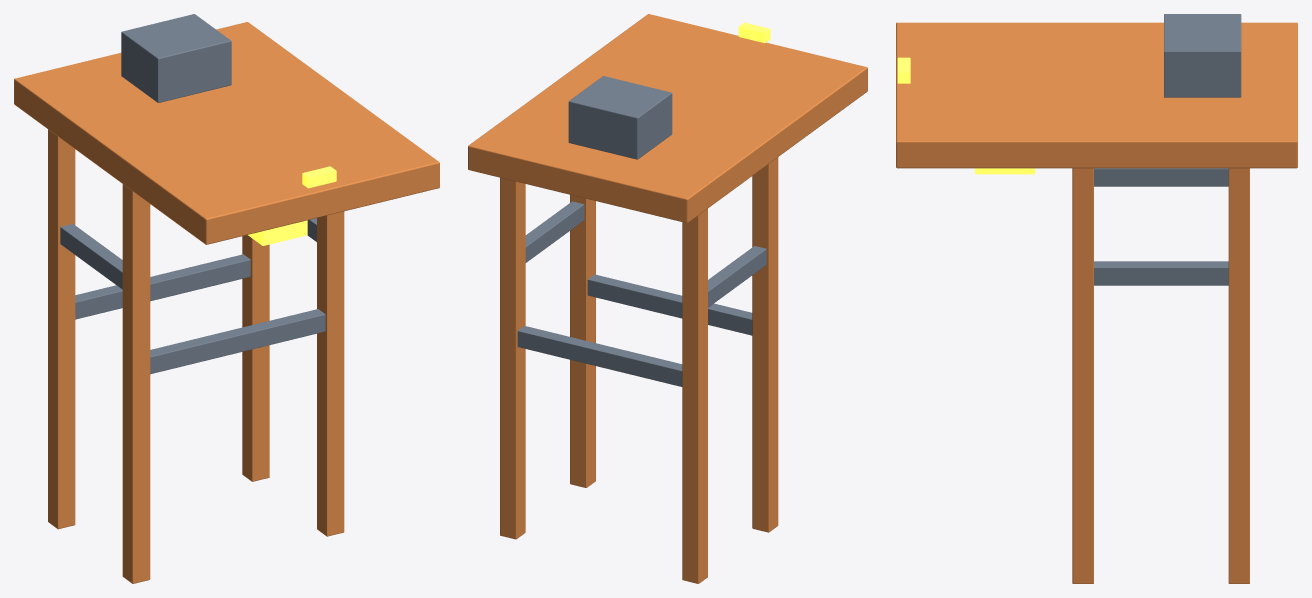
Rendered from crane_kogyo.glb.
The picture shows the model from 3 angles, left to right: view 1: azimuth 30°, elevation 25°; view 2: azimuth 150°, elevation 25°; view 3: azimuth 270°, elevation 25°; orthographic projection. The views are drawn at different scales.
Parts seen in each view (by area): view 1: GantryBoom, PortalLeg_-1_-1, PortalLeg_-1_1, PortalLeg_1_-1, MachineryHouse, PortalLeg_1_1, CrossBraceFront, CrossBraceBack, CrossBraceLeft, OperatorTrolley, HazardLightFront; view 2: GantryBoom, PortalLeg_-1_-1, PortalLeg_-1_1, PortalLeg_1_1, MachineryHouse, PortalLeg_1_-1, CrossBraceBack, CrossBraceFront, CrossBraceRight, CrossBraceLeft; view 3: GantryBoom, PortalLeg_1_1, PortalLeg_1_-1, MachineryHouse, CrossBraceRight, CrossBraceLeft.
Boxes of the visible parts, x1,y1,x2,y2 form: GantryBoom: [14, 22, 439, 244]; PortalLeg_-1_-1: [122, 184, 150, 583]; PortalLeg_-1_1: [48, 129, 75, 529]; PortalLeg_1_-1: [317, 211, 344, 536]; MachineryHouse: [121, 14, 231, 102]; PortalLeg_1_1: [242, 235, 269, 481]; CrossBraceFront: [150, 309, 325, 374]; CrossBraceBack: [75, 254, 250, 319]; CrossBraceLeft: [60, 224, 122, 289]; OperatorTrolley: [248, 220, 307, 245]; HazardLightFront: [302, 166, 336, 188]; GantryBoom: [468, 14, 867, 223]; PortalLeg_-1_-1: [752, 157, 778, 532]; PortalLeg_-1_1: [682, 208, 707, 583]; PortalLeg_1_1: [500, 177, 525, 539]; MachineryHouse: [568, 76, 672, 159]; PortalLeg_1_-1: [570, 195, 595, 487]; CrossBraceBack: [517, 326, 682, 386]; CrossBraceFront: [587, 274, 752, 335]; CrossBraceRight: [525, 201, 584, 262]; CrossBraceLeft: [708, 246, 766, 307]; GantryBoom: [896, 22, 1297, 168]; PortalLeg_1_1: [1228, 168, 1249, 583]; PortalLeg_1_-1: [1072, 168, 1093, 583]; MachineryHouse: [1164, 14, 1241, 97]; CrossBraceRight: [1094, 261, 1228, 285]; CrossBraceLeft: [1094, 168, 1228, 186].
Size of the model in its own units: 19.68 by 38.28 by 28.
